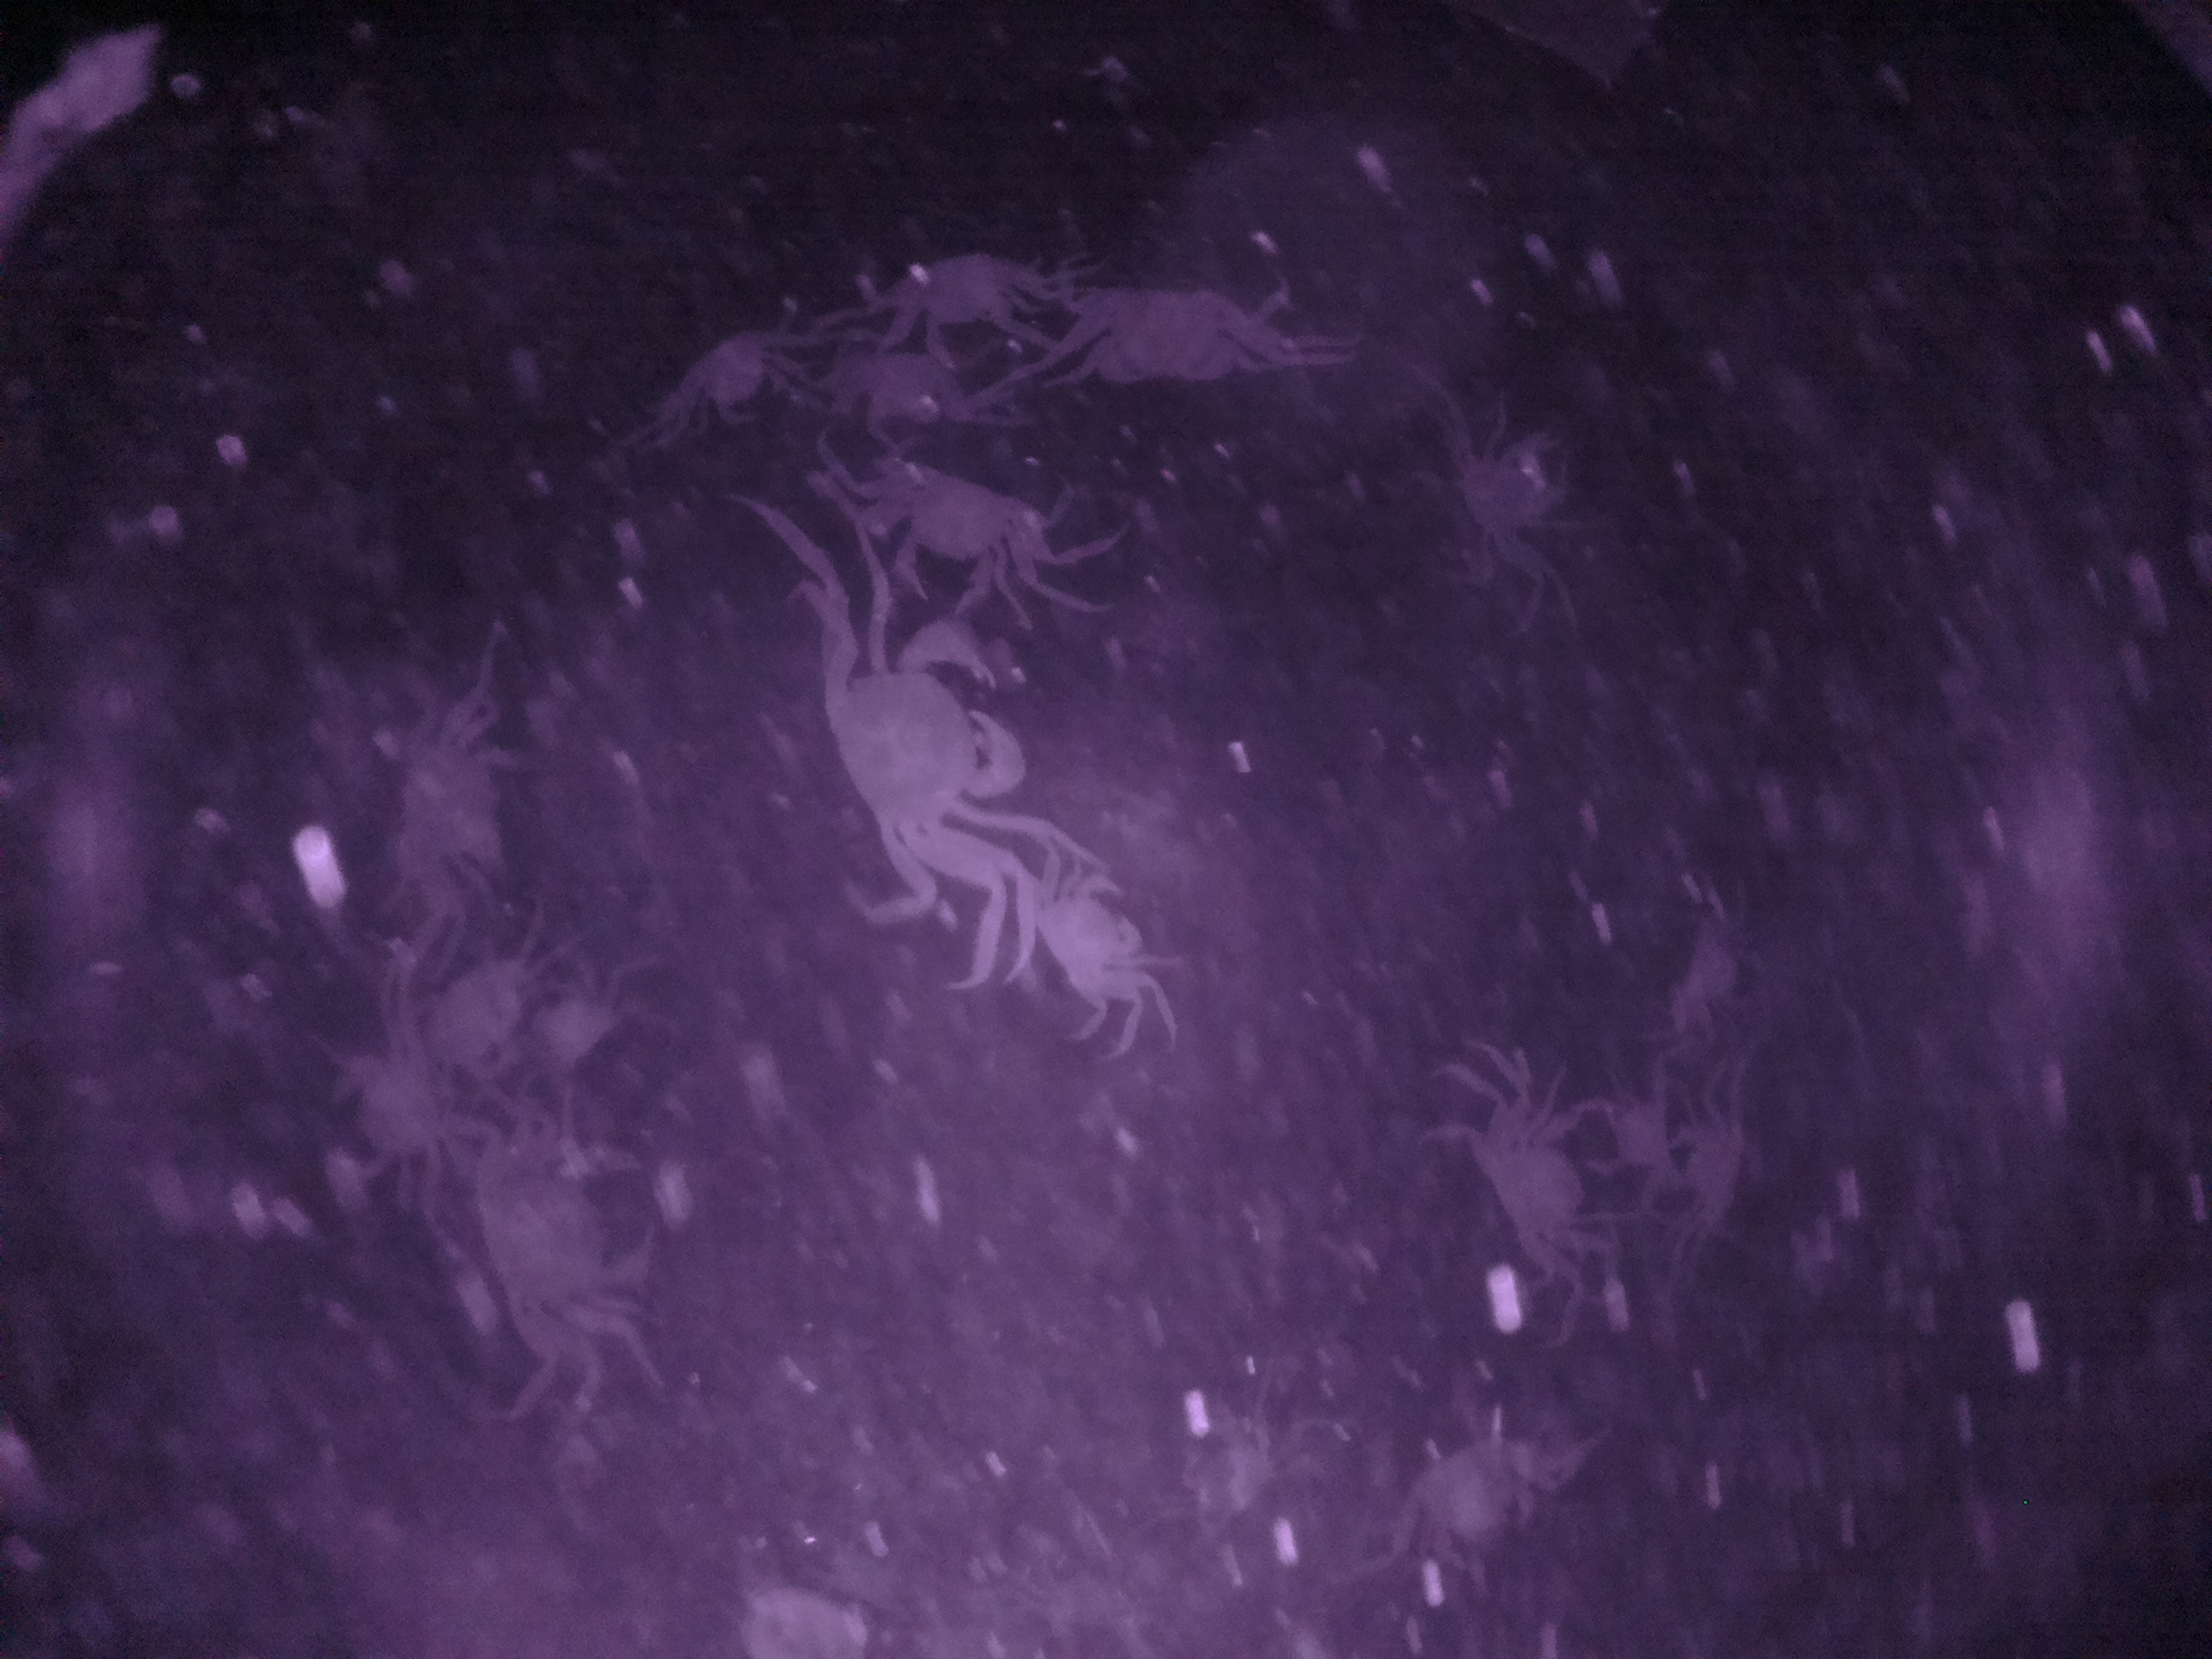Crab: (806, 598, 1042, 877), (820, 450, 1066, 612), (1460, 1072, 1629, 1284), (1012, 847, 1160, 1032), (1061, 268, 1263, 401), (862, 239, 1057, 366), (655, 307, 801, 448)
